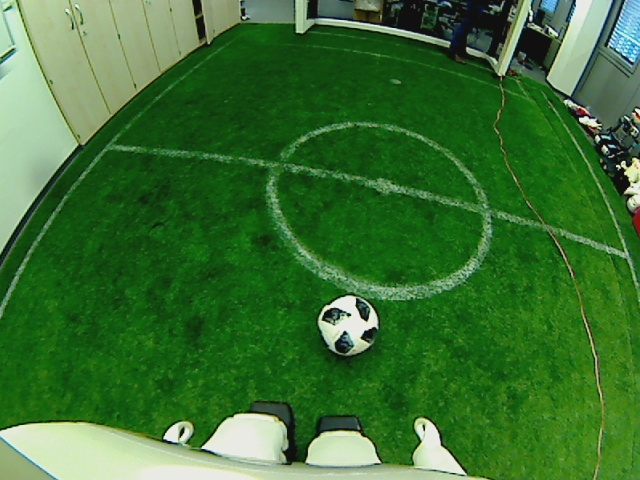ball: (316, 292, 380, 358)
